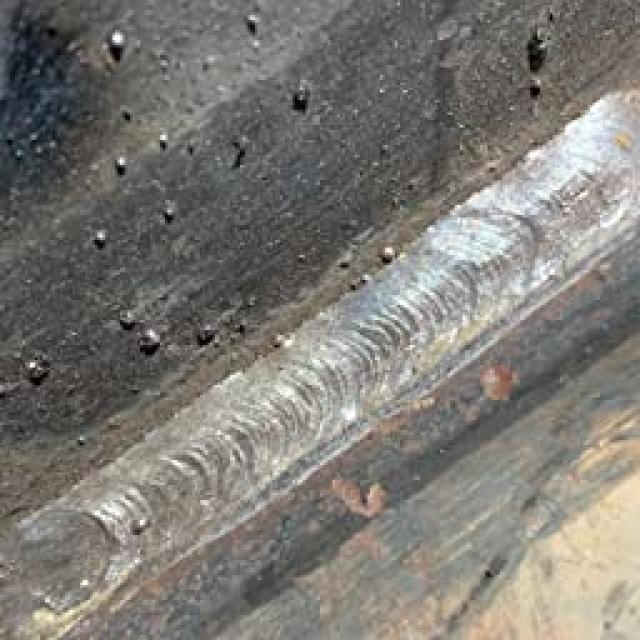Good Welding: (19, 94, 640, 614)
